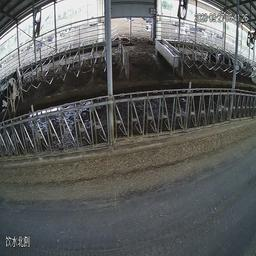cow: (5, 65, 27, 116)
